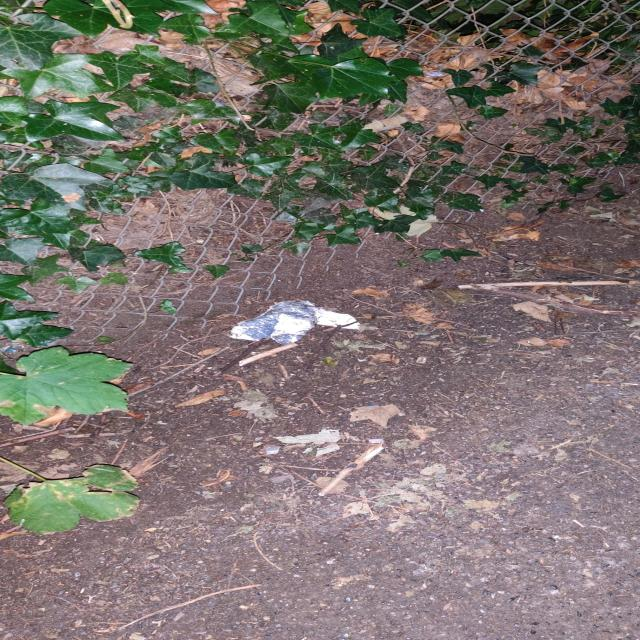litter: (224, 297, 371, 349)
